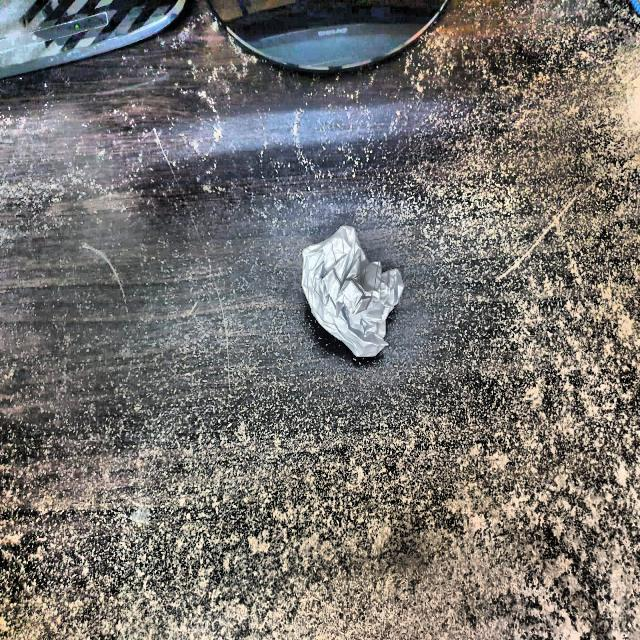Paper: (295, 225, 408, 360)
